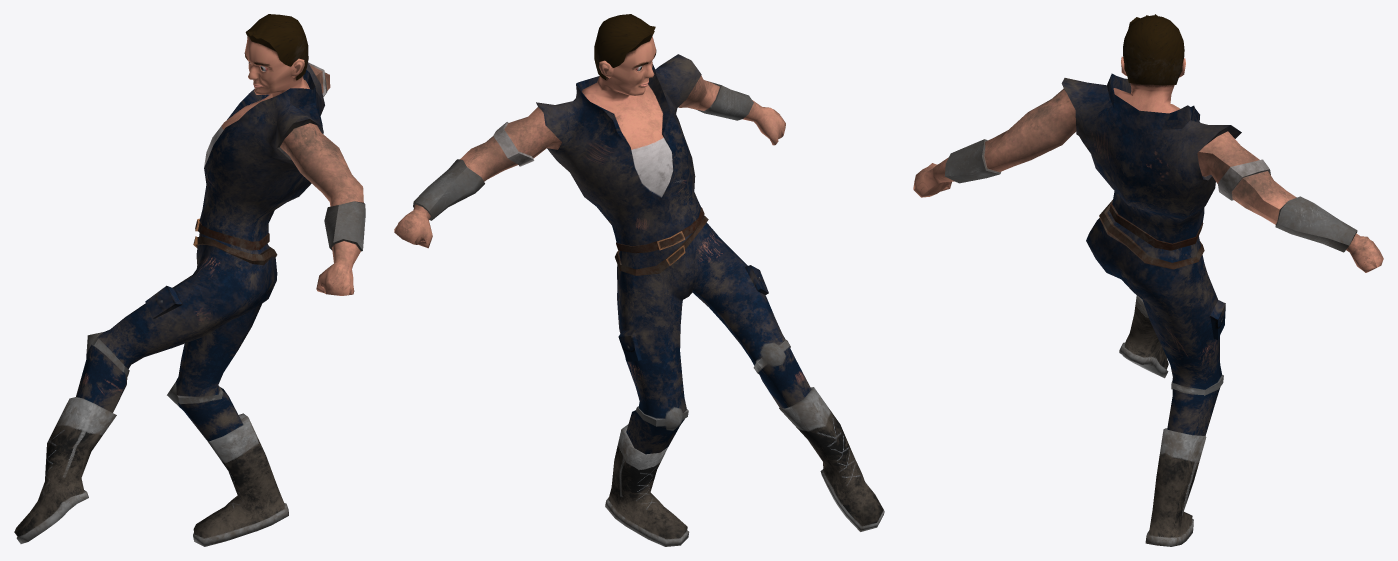
File: Anim_ataque_f3_jugador.0034.obj
The picture shows the model from 3 angles, left to right: view 1: azimuth 30°, elevation 25°; view 2: azimuth 150°, elevation 25°; view 3: azimuth 270°, elevation 25°; orthographic projection. The views are drawn at different scales.
Visible parts, largest first — view 1: polySurface1; view 2: polySurface1; view 3: polySurface1.
Part boxes in pixels (x1,y1,x2,y2): polySurface1: [14, 14, 365, 546]; polySurface1: [394, 14, 884, 546]; polySurface1: [913, 14, 1383, 546].
Size of the model in its own units: 7.44 by 9.35 by 7.38.
